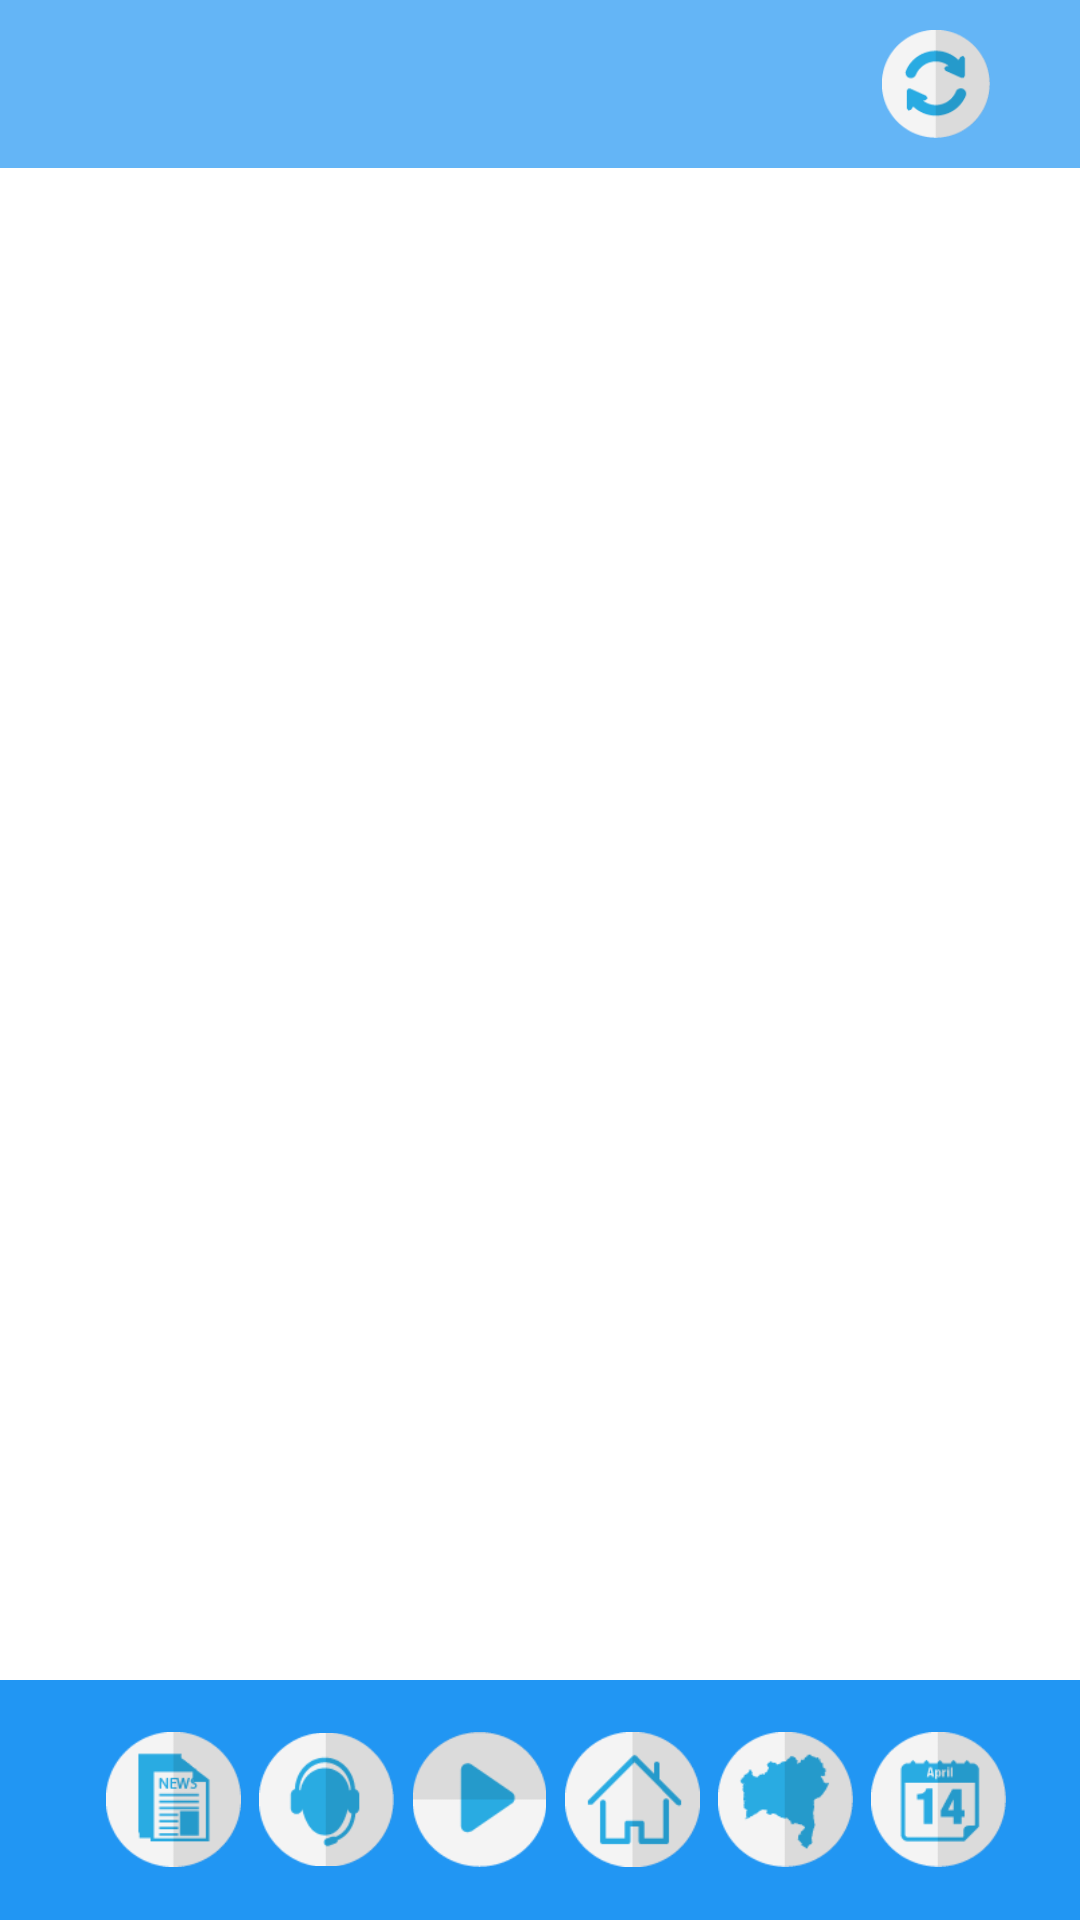

Point at icon controls on the screen. Image size 1080w x 1920h, points as (x,y).
agenda: (938,1799)
atualiza: (936,84)
linhadir: (326,1799)
mapas: (785,1799)
portal: (632,1799)
webtv: (479,1799)
